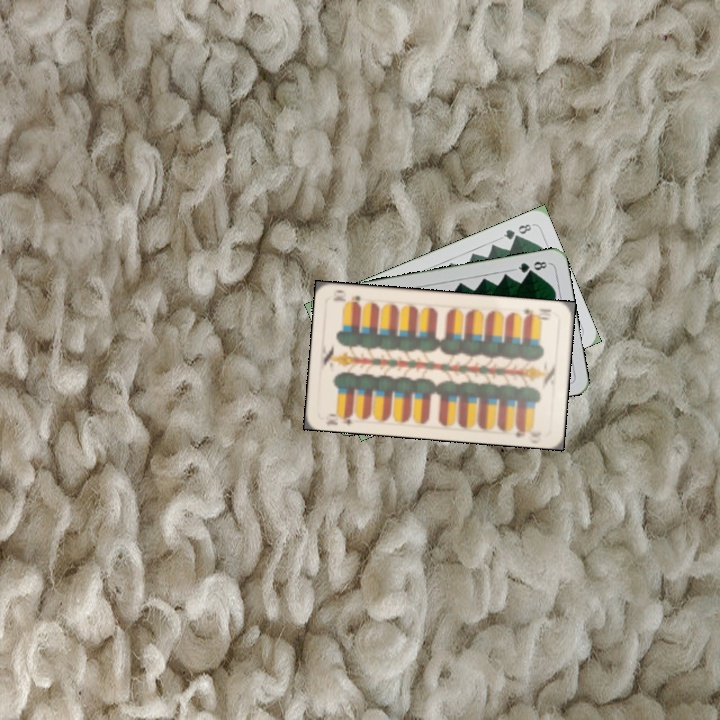E10: (322, 408, 360, 428), (518, 304, 554, 323)
G8: (499, 220, 534, 242), (511, 257, 551, 276)
